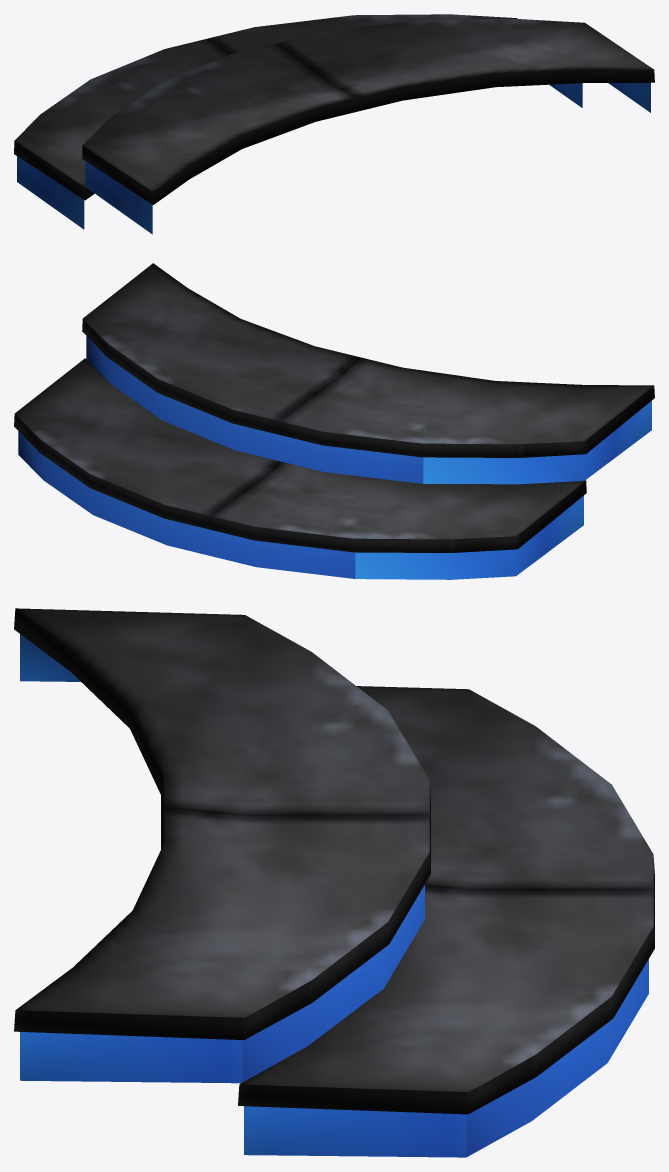
The model's file is ARC0610004.fbx.
3 renders of one model, top to bottom at view 1: azimuth 30°, elevation 25°; view 2: azimuth 150°, elevation 25°; view 3: azimuth 270°, elevation 25°, orthographic. The views are drawn at different scales.
Visible parts, largest first — view 1: smARC0610004; view 2: smARC0610004; view 3: smARC0610004.
Boxes of the visible parts, left/top/right/bottom form: smARC0610004: left=14, top=14, right=654, bottom=234; smARC0610004: left=14, top=263, right=654, bottom=579; smARC0610004: left=14, top=608, right=654, bottom=1157.
Bounding box in the file's own units: 321 × 55.5 × 215.
2 materials, 2 textured.
